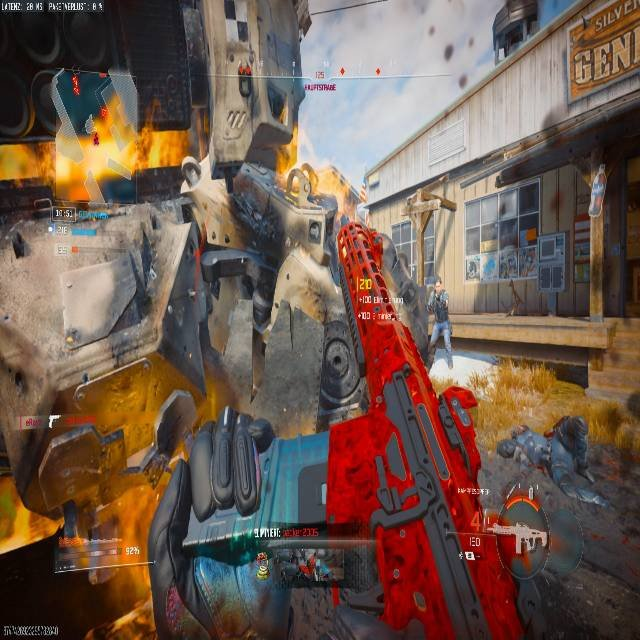player: (426, 279, 454, 370)
